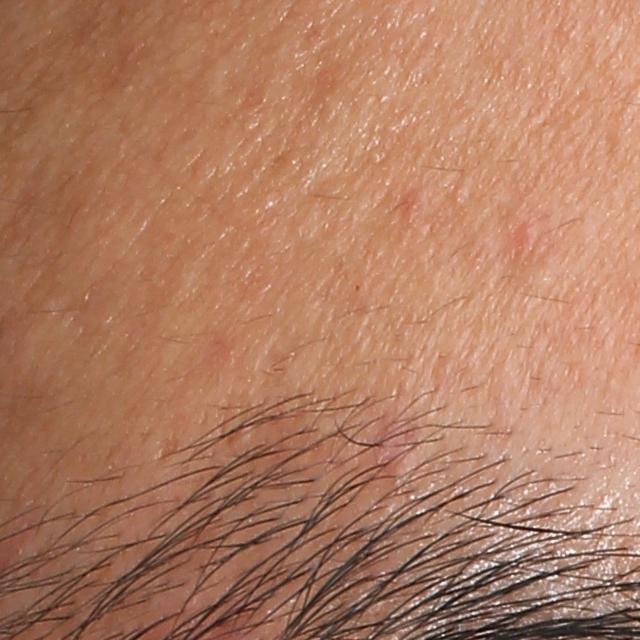comedo: (447, 184, 471, 203)
